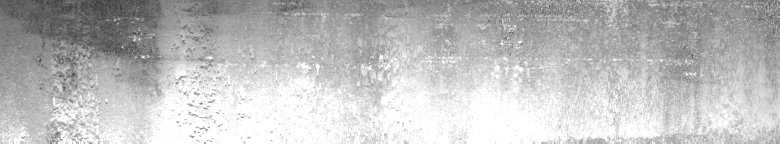hc: (39, 10, 149, 88)
